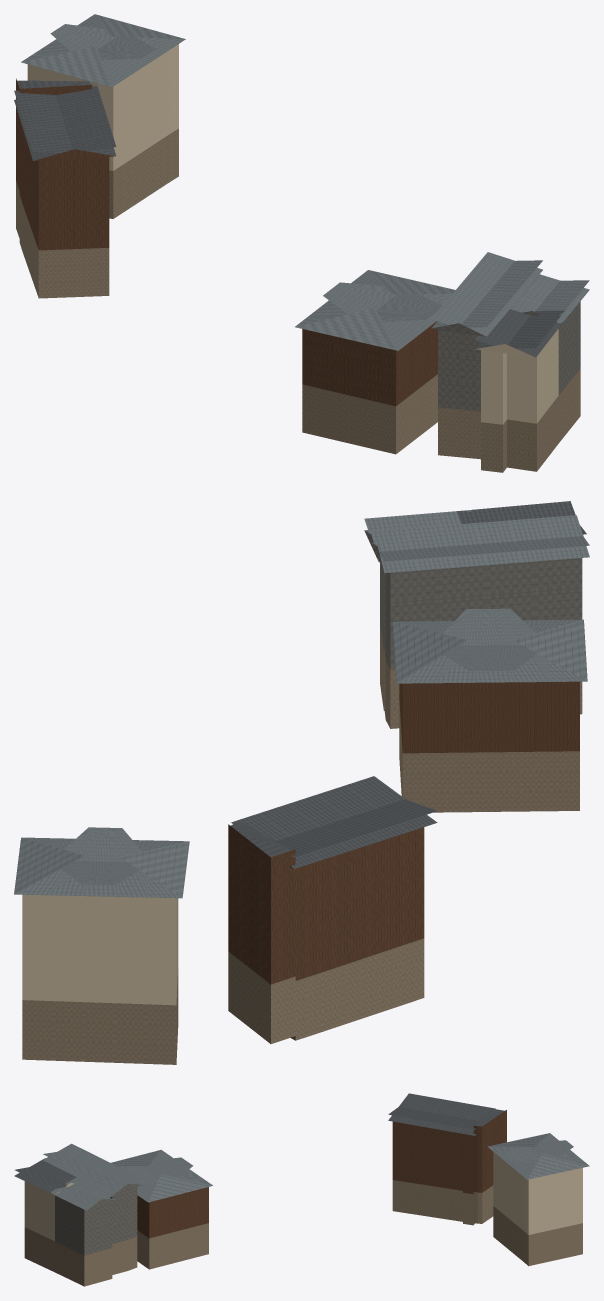
Rendered from bld_c9_10_495.gltf.
3 views of the same model, one above another, from view 1: azimuth 30°, elevation 25°; view 2: azimuth 150°, elevation 25°; view 3: azimuth 270°, elevation 25° (orthographic). The views are drawn at different scales.
Parts seen in each view (by area): view 1: bld_c9_10_495; view 2: bld_c9_10_495; view 3: bld_c9_10_495.
Part boxes in pixels (x1,y1,x2,y2): bld_c9_10_495: [14, 14, 589, 472]; bld_c9_10_495: [14, 501, 589, 1064]; bld_c9_10_495: [14, 1093, 589, 1286].
Size of the model in its own units: 34.22 by 17.28 by 85.58.
9 materials, 9 textured.
